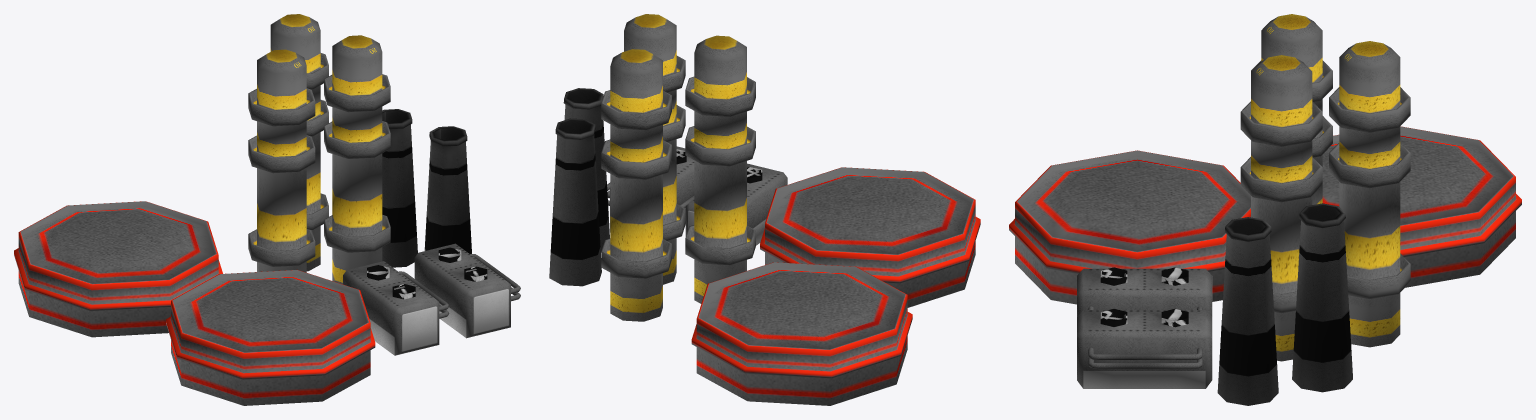
Rendered from Oil Refinery.fbx.
3 renders of one model, left to right at view 1: azimuth 30°, elevation 25°; view 2: azimuth 150°, elevation 25°; view 3: azimuth 270°, elevation 25°, orthographic. The views are drawn at different scales.
Visible parts, largest first — view 1: Oil Storage.001, Oil Storage.002, Distillation Column.003, Distillation Column.001, Cooling Tower.001, Cooling Tower.002, Exhaust.001, Distillation Column.002, Exhaust.002; view 2: Oil Storage.002, Oil Storage.001, Distillation Column.002, Distillation Column.001, Exhaust.002, Distillation Column.003, Exhaust.001, Cooling Tower.002, Cooling Tower.001; view 3: Oil Storage.001, Distillation Column.002, Oil Storage.002, Distillation Column.003, Exhaust.001, Exhaust.002, Cooling Tower.001, Cooling Tower.002, Distillation Column.001, Pipe.002, Pipe.001.
Part boxes in pixels (bbox=[...]): Oil Storage.001: bbox=[166, 269, 375, 405]; Oil Storage.002: bbox=[14, 201, 222, 337]; Distillation Column.003: bbox=[324, 35, 390, 284]; Distillation Column.001: bbox=[248, 49, 315, 272]; Cooling Tower.001: bbox=[414, 243, 510, 338]; Cooling Tower.002: bbox=[343, 261, 439, 355]; Exhaust.001: bbox=[424, 126, 471, 253]; Distillation Column.002: bbox=[270, 14, 328, 271]; Exhaust.002: bbox=[382, 109, 417, 267]; Oil Storage.002: bbox=[691, 262, 912, 405]; Oil Storage.001: bbox=[760, 167, 980, 307]; Distillation Column.002: bbox=[601, 49, 671, 321]; Distillation Column.001: bbox=[685, 35, 755, 303]; Exhaust.002: bbox=[549, 118, 601, 286]; Distillation Column.003: bbox=[624, 14, 685, 284]; Exhaust.001: bbox=[563, 88, 609, 252]; Cooling Tower.002: bbox=[685, 163, 787, 245]; Cooling Tower.001: bbox=[610, 146, 694, 232]; Oil Storage.001: bbox=[1009, 150, 1250, 304]; Distillation Column.002: bbox=[1329, 41, 1410, 347]; Oil Storage.002: bbox=[1322, 126, 1521, 287]; Distillation Column.003: bbox=[1240, 55, 1322, 361]; Exhaust.001: bbox=[1217, 217, 1278, 405]; Exhaust.002: bbox=[1292, 203, 1352, 392]; Cooling Tower.001: bbox=[1077, 308, 1212, 388]; Cooling Tower.002: bbox=[1077, 267, 1212, 316]; Distillation Column.001: bbox=[1251, 14, 1332, 204]; Pipe.002: bbox=[1088, 347, 1202, 359]; Pipe.001: bbox=[1088, 357, 1202, 368].
Bounding box in the file's own units: 1718 × 1030 × 1676.
